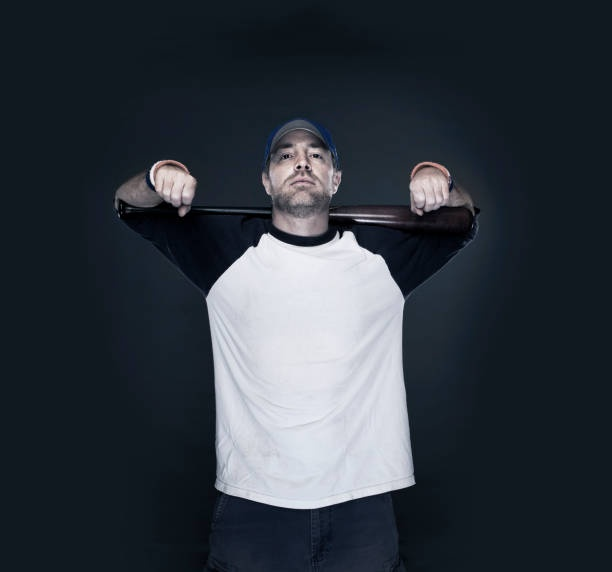bita: (331, 207, 485, 236), (122, 196, 267, 219)
